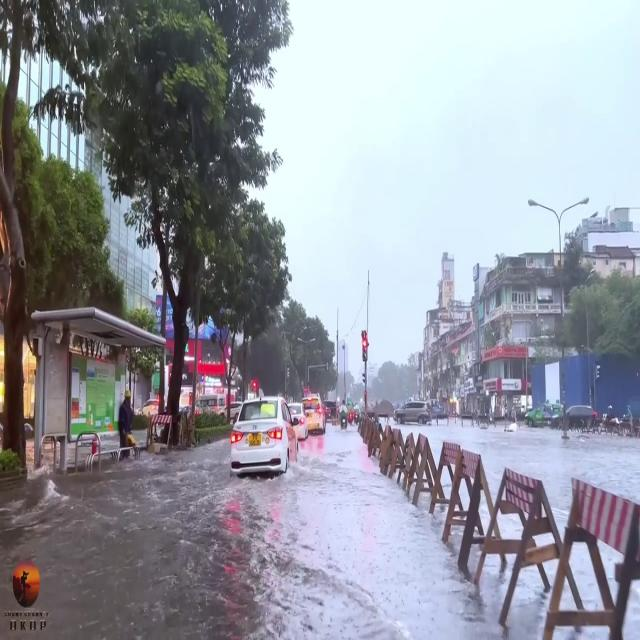bien_vang: (249, 433, 261, 445)
